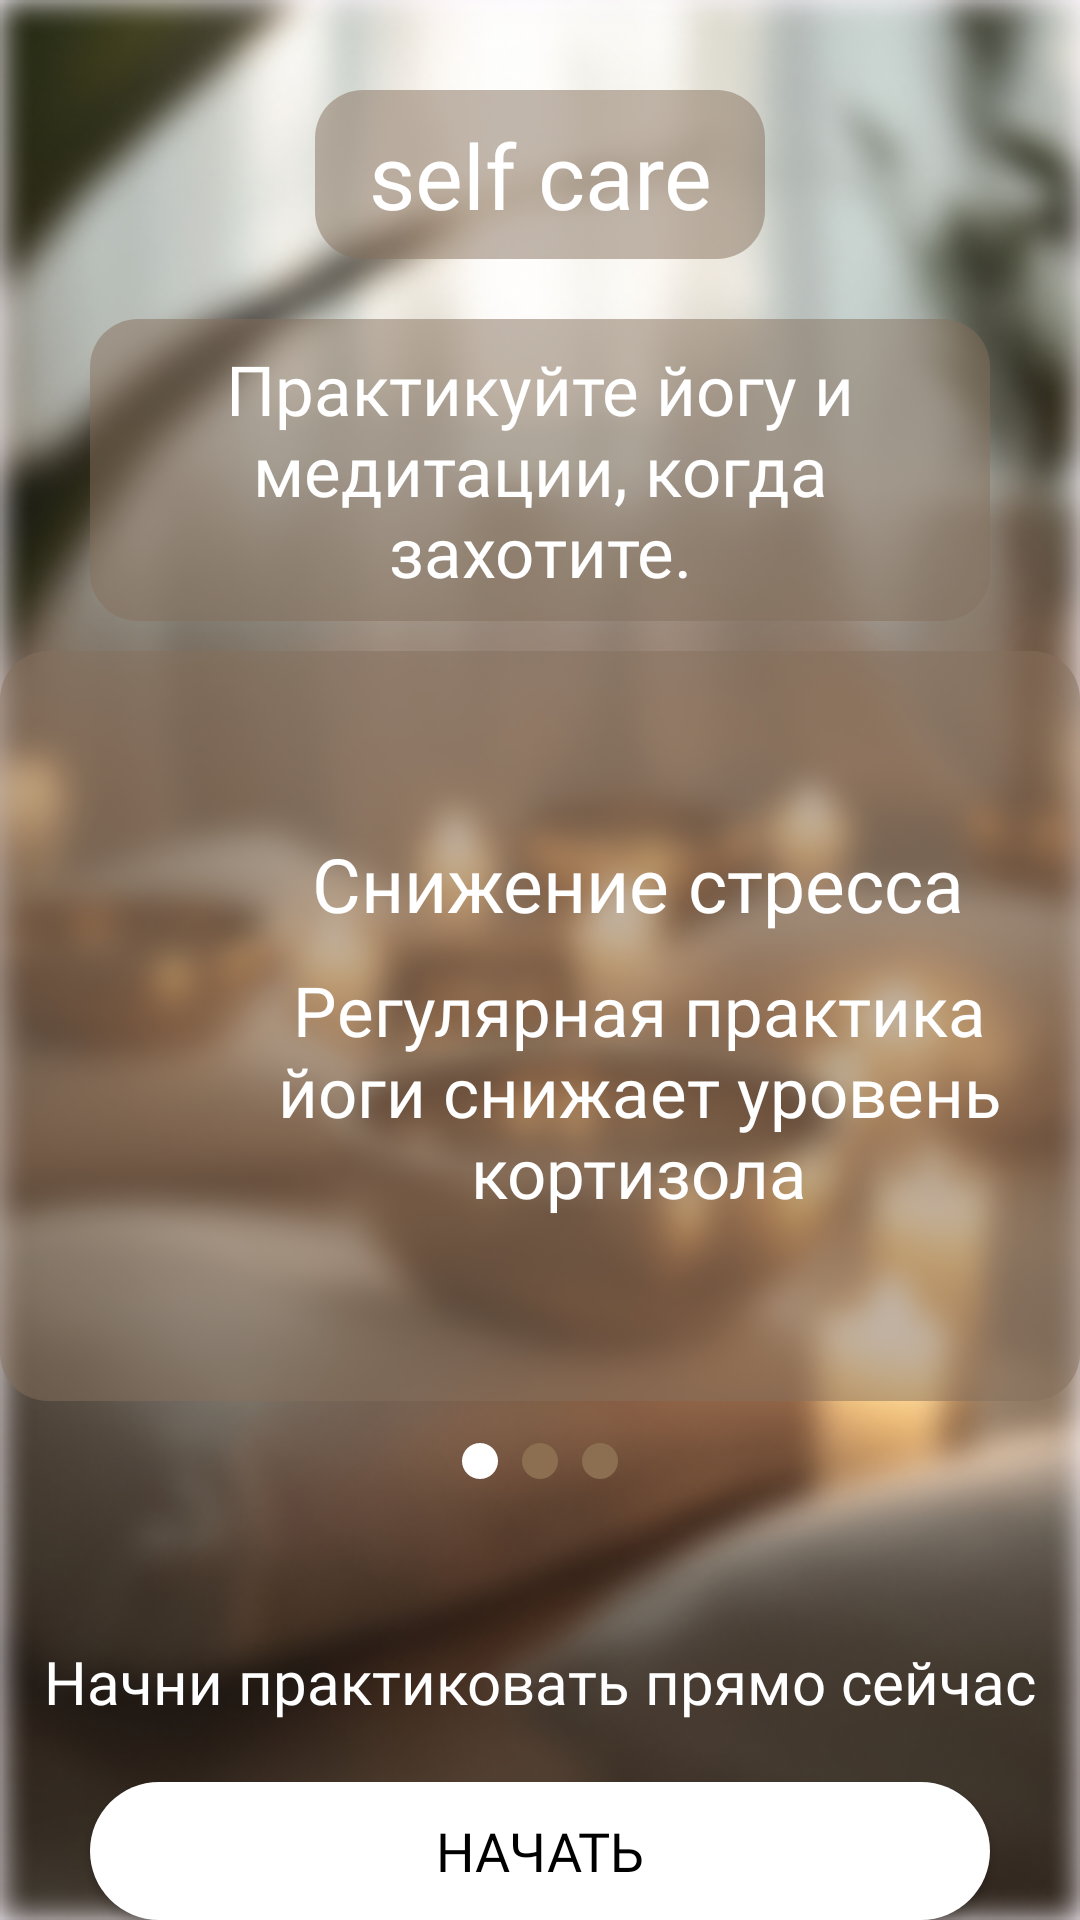

Locate icon controls on the screen. Image size 1080 x 1920, boxes as (x1, y1, x2, y2).
dot: (462, 1443, 498, 1479)
